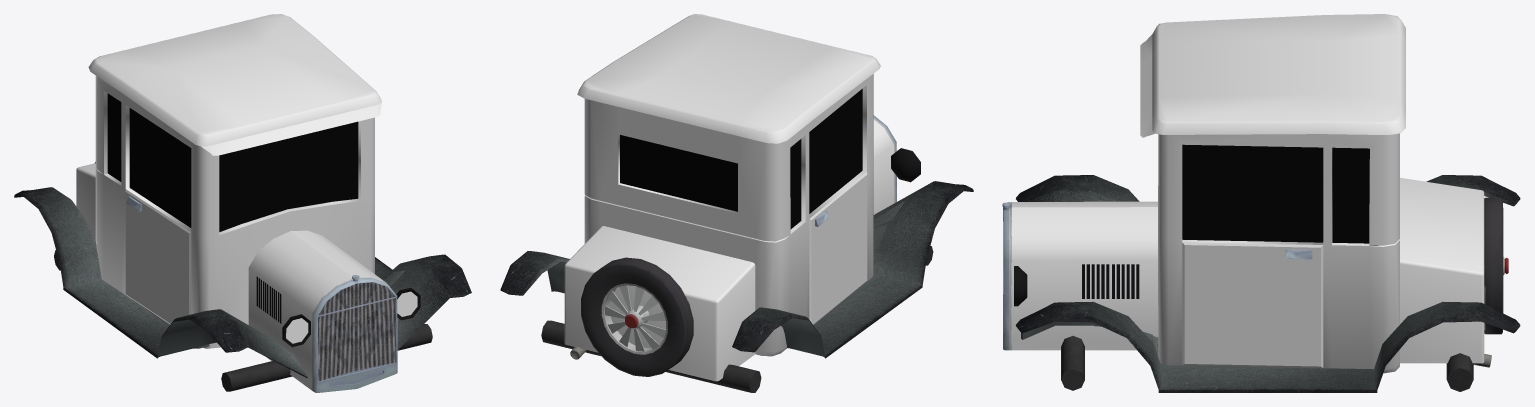
The model's file is OldCar.dae.
3 views of the same model, side by side, from view 1: azimuth 30°, elevation 25°; view 2: azimuth 150°, elevation 25°; view 3: azimuth 270°, elevation 25° (orthographic). The views are drawn at different scales.
Parts seen in each view (by area): view 1: CHASSIS_3_Paint, CHASSIS_3_Parts; view 2: CHASSIS_3_Paint, CHASSIS_3_Parts; view 3: CHASSIS_3_Paint, CHASSIS_3_Parts.
Boxes of the visible parts, x1,y1,x2,y2 form: CHASSIS_3_Paint: [76, 14, 384, 389]; CHASSIS_3_Parts: [14, 93, 471, 392]; CHASSIS_3_Paint: [564, 14, 894, 381]; CHASSIS_3_Parts: [500, 88, 973, 392]; CHASSIS_3_Paint: [1011, 14, 1484, 373]; CHASSIS_3_Parts: [1002, 144, 1520, 392].
Size of what is drawn, in the model's own units: 2.35 by 3.43 by 1.96.
